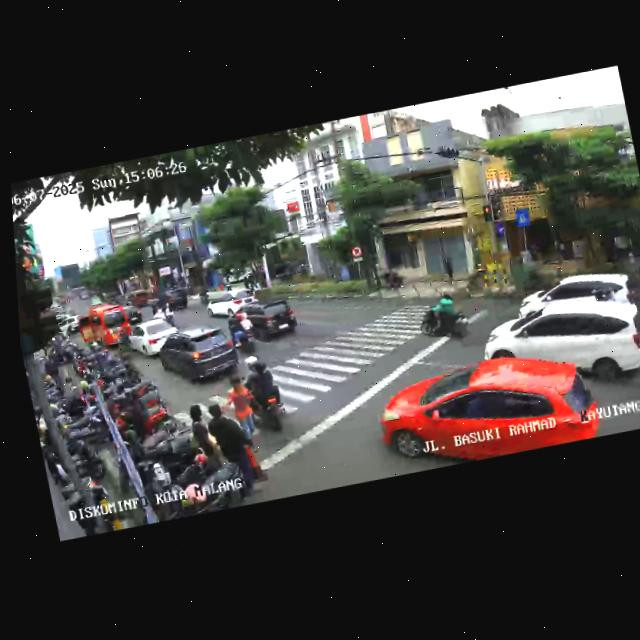car: (371, 342, 605, 477), (473, 287, 640, 408), (511, 262, 636, 326), (156, 320, 243, 389), (225, 286, 301, 348), (75, 300, 133, 353), (124, 315, 184, 362), (205, 285, 261, 320), (163, 287, 192, 314), (127, 287, 153, 310), (124, 304, 143, 324)
motorcycle: (236, 354, 292, 439), (415, 288, 473, 348), (227, 305, 259, 351)
person: (203, 396, 265, 505), (220, 374, 265, 453), (185, 400, 215, 461)
